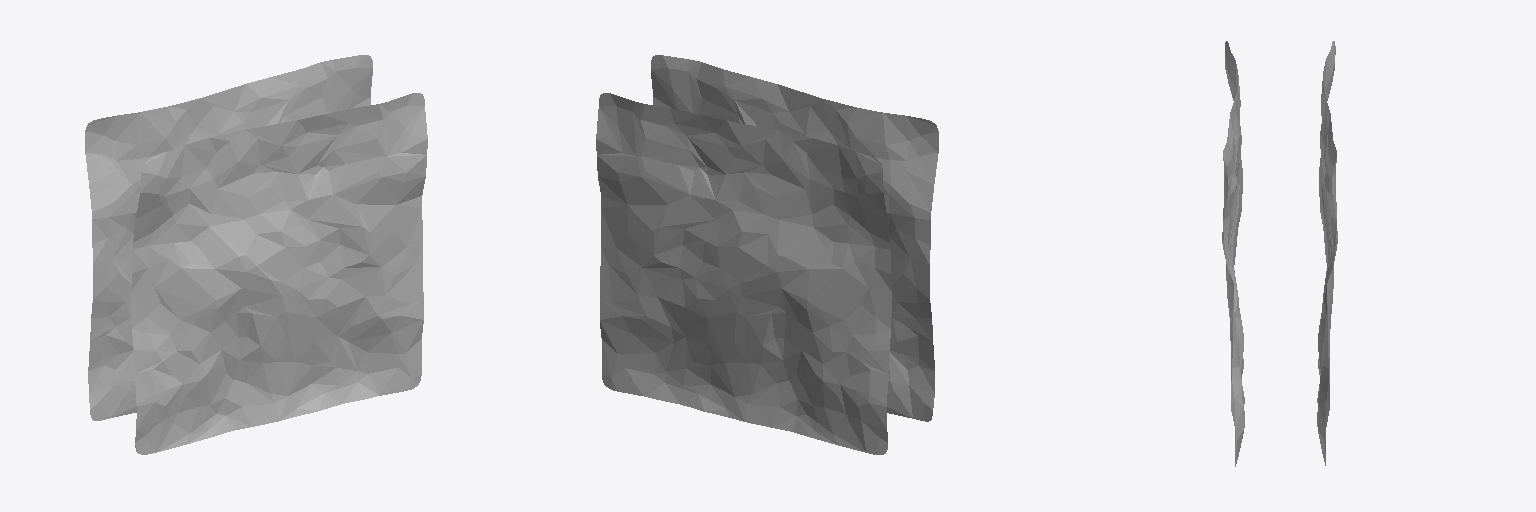
Rendered from slab.obj.
3 views of the same model, side by side, from view 1: azimuth 30°, elevation 25°; view 2: azimuth 150°, elevation 25°; view 3: azimuth 270°, elevation 25° (orthographic).
Parts seen in each view (by area): view 1: plane_1_Mesh1; view 2: plane_1_Mesh1; view 3: plane_1_Mesh1.
Boxes of the visible parts, <box> form: plane_1_Mesh1: <box>85,55,427,454</box>; plane_1_Mesh1: <box>596,55,938,454</box>; plane_1_Mesh1: <box>1222,41,1337,466</box>.
Size of the model in its own units: 2 by 2 by 0.7002.